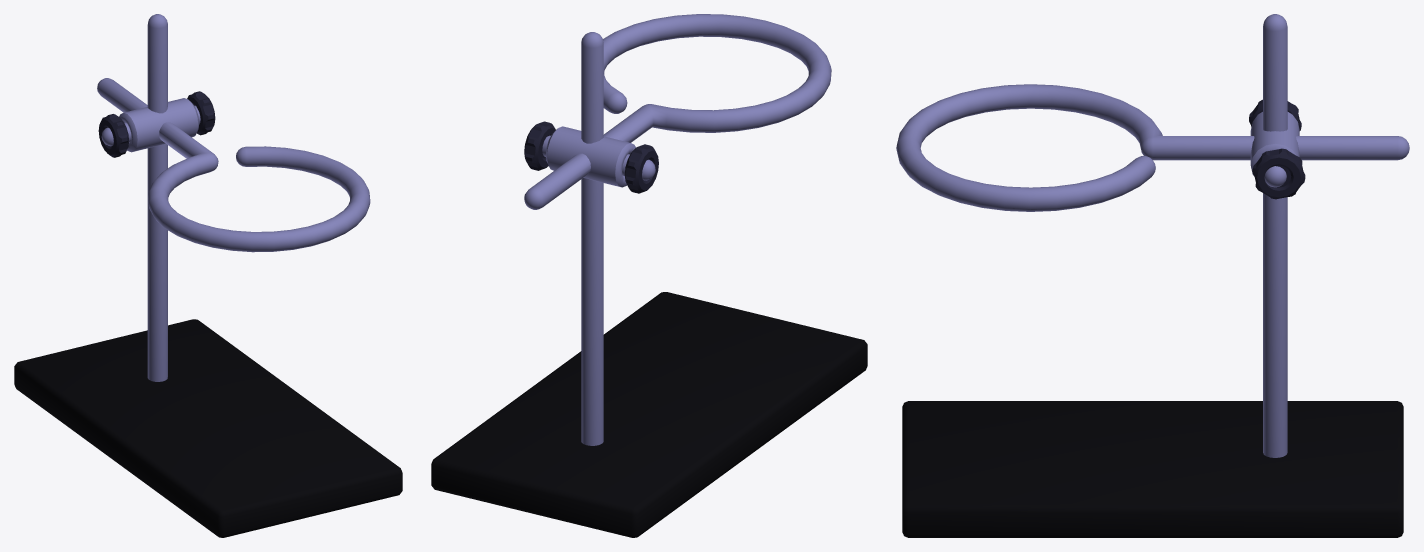
The model's file is LastLuna_Model_Station_Stand.fbx.
3 renders of one model, left to right at view 1: azimuth 30°, elevation 25°; view 2: azimuth 150°, elevation 25°; view 3: azimuth 270°, elevation 25°, orthographic. The views are drawn at different scales.
Parts seen in each view (by area): view 1: Stand_Base001, Cylinder013, Stand_Pole001, Stand_Pole_Fixture_Metal001, Stand_Pole_Fixture_Plastic001, Stand_Pole_Fixture_Plastic002; view 2: Stand_Base001, Cylinder013, Stand_Pole001, Stand_Pole_Fixture_Metal001, Stand_Pole_Fixture_Plastic001, Stand_Pole_Fixture_Plastic002; view 3: Stand_Base001, Cylinder013, Stand_Pole001, Stand_Pole_Fixture_Plastic002, Stand_Pole_Fixture_Metal001.
Part boxes in pixels (x1,y1,x2,y2): Stand_Base001: [14, 319, 402, 537]; Cylinder013: [97, 78, 370, 252]; Stand_Pole001: [147, 14, 167, 381]; Stand_Pole_Fixture_Metal001: [119, 98, 199, 152]; Stand_Pole_Fixture_Plastic001: [98, 114, 128, 157]; Stand_Pole_Fixture_Plastic002: [187, 91, 215, 135]; Stand_Base001: [431, 292, 867, 537]; Cylinder013: [524, 14, 831, 209]; Stand_Pole001: [581, 32, 603, 445]; Stand_Pole_Fixture_Metal001: [546, 126, 635, 187]; Stand_Pole_Fixture_Plastic001: [624, 144, 658, 193]; Stand_Pole_Fixture_Plastic002: [524, 121, 555, 170]; Stand_Base001: [902, 401, 1403, 537]; Cylinder013: [896, 84, 1409, 211]; Stand_Pole001: [1263, 14, 1287, 457]; Stand_Pole_Fixture_Plastic002: [1252, 148, 1305, 199]; Stand_Pole_Fixture_Metal001: [1250, 112, 1299, 176].
Size of the model in its own units: 110 by 212 by 210.
